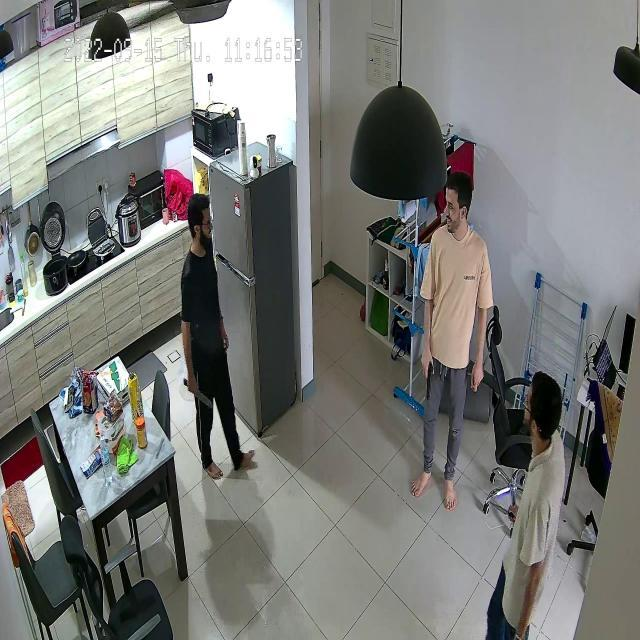Gun: (413, 354, 440, 410)
Knife: (181, 376, 214, 414)
